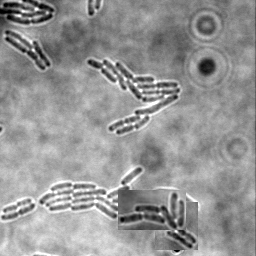Dividing: (1, 204, 37, 222), (3, 199, 33, 215)
Microcolony: (40, 167, 199, 238), (87, 59, 181, 136), (118, 190, 186, 230), (155, 202, 198, 250), (5, 30, 52, 72), (1, 1, 56, 26)
